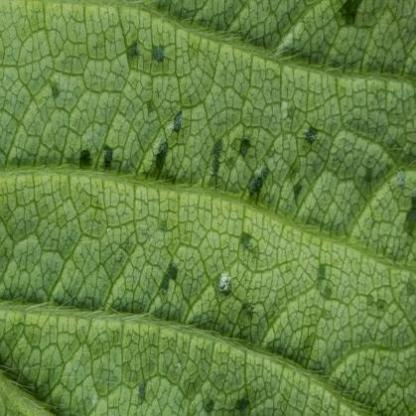Strawberry_Angular_LeafSpot: (40, 0, 415, 415)
